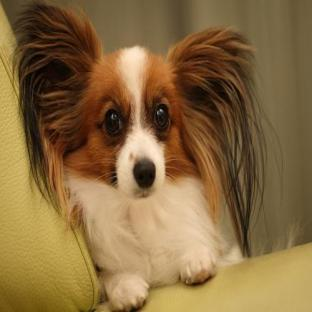Animal: (15, 3, 262, 310)
